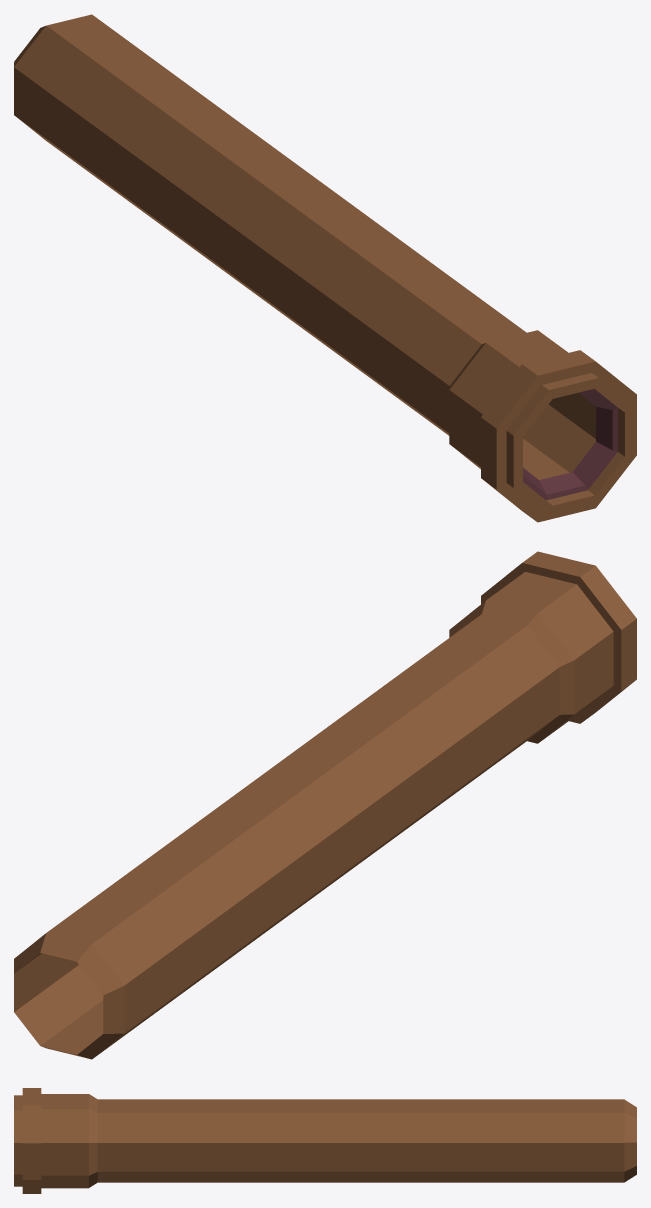
Rendered from pipe-narrow.fbx.
3 views of the same model, one above another, from view 1: azimuth 30°, elevation 25°; view 2: azimuth 150°, elevation 25°; view 3: azimuth 270°, elevation 25° (orthographic). The views are drawn at different scales.
Visible parts, largest first — view 1: pipe-narrow; view 2: pipe-narrow; view 3: pipe-narrow.
Boxes of the visible parts, x1=… form: pipe-narrow: x1=14, y1=14, x2=636, y2=522; pipe-narrow: x1=14, y1=551, x2=636, y2=1059; pipe-narrow: x1=14, y1=1088, x2=636, y2=1193.
Bounding box in the file's own units: 0.3288 × 0.3288 × 2.09.
